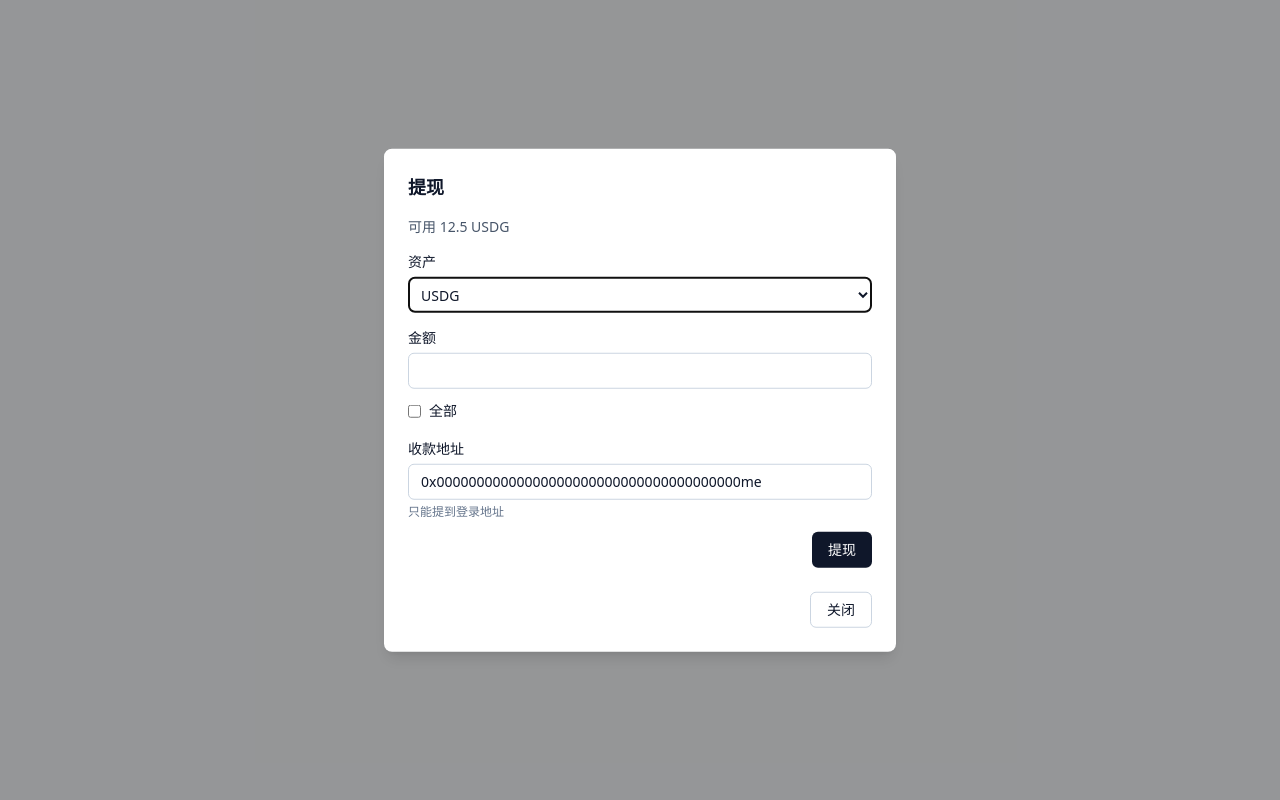
Test: shows balance and the fixed destination, submits USDG in units, then polls to CONFIRMED
Expected: the text "可用 12.5 USDG" is shown, left=408, top=217, right=509, bottom=236
Type "1" into the field labelled "金额" at point(640, 371), box left=408, top=353, right=872, bottom=389
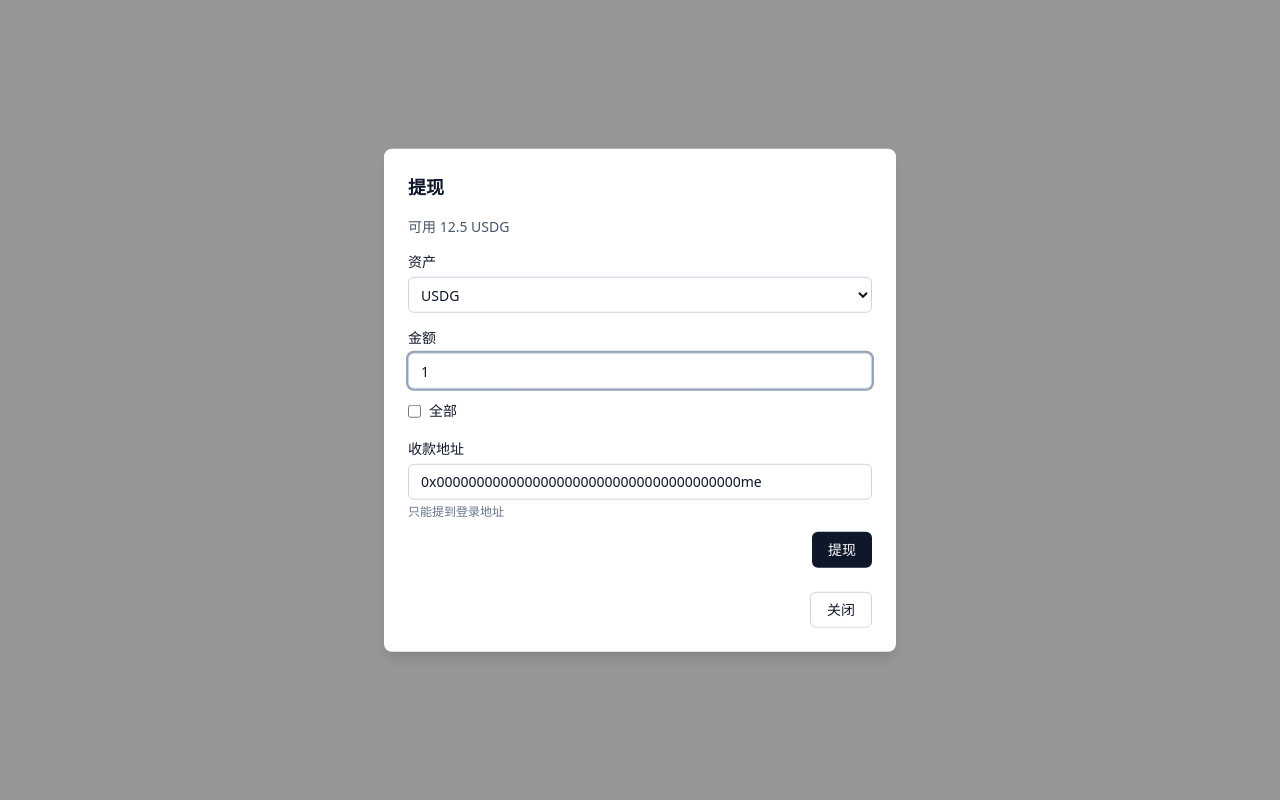
Click the button "提现" at point(842, 549), box left=812, top=531, right=872, bottom=567
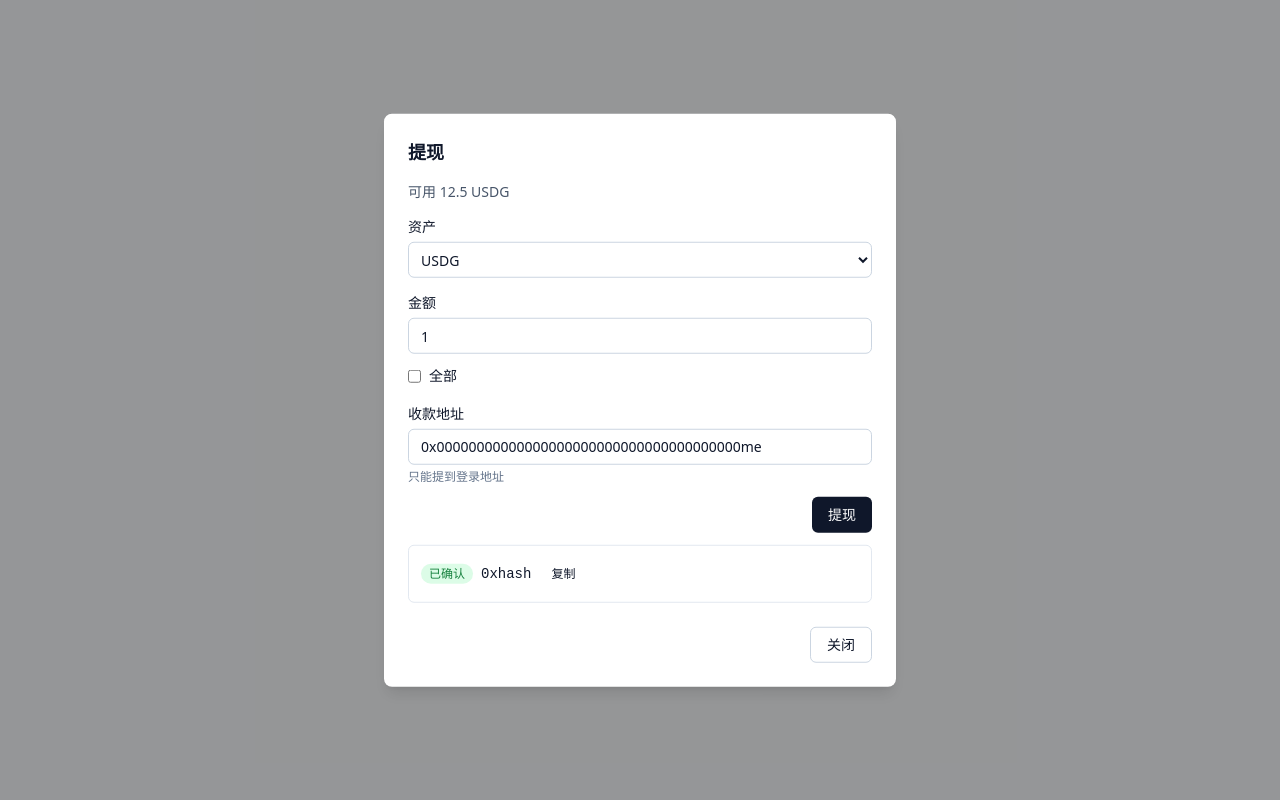
Expected: the text "0xhash" is shown, left=481, top=563, right=531, bottom=583
Expected: the text "已确认" is shown, left=421, top=563, right=473, bottom=583
